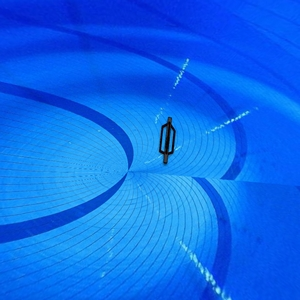submarine: (152, 117, 182, 168)
